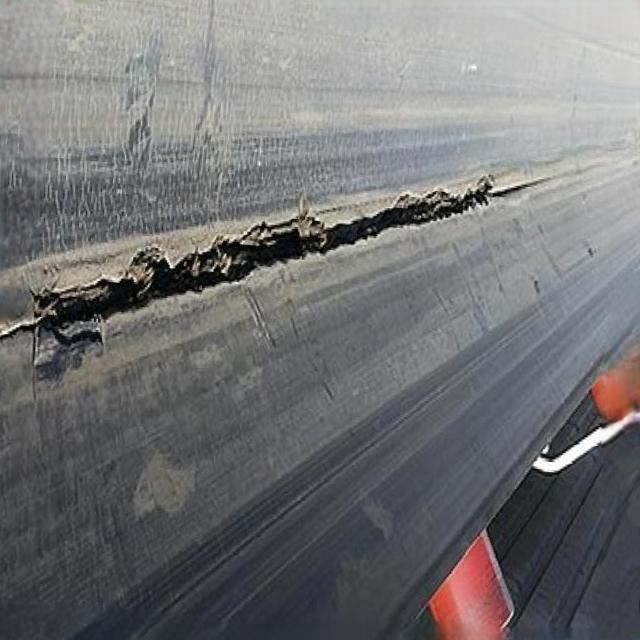Tear: (0, 170, 552, 368)
